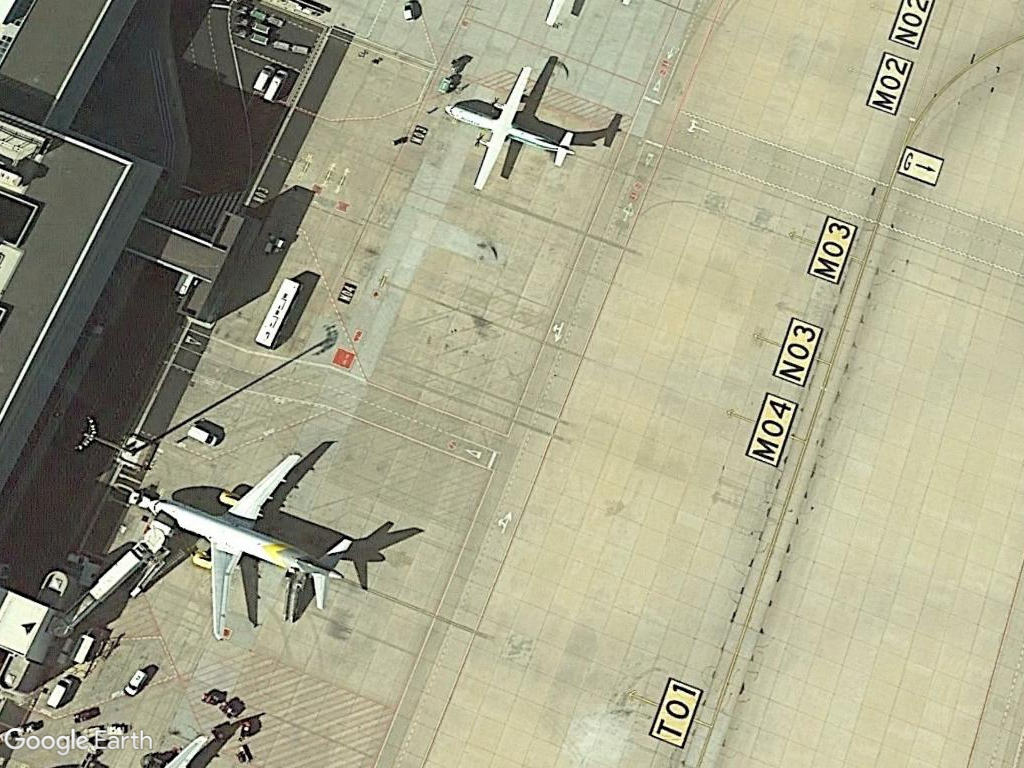airliner: (142, 448, 359, 639)
bus: (246, 267, 305, 355)
car: (119, 665, 150, 699)
propeller: (439, 51, 583, 197)
van: (261, 62, 292, 108), (44, 676, 78, 712), (183, 420, 223, 448)
